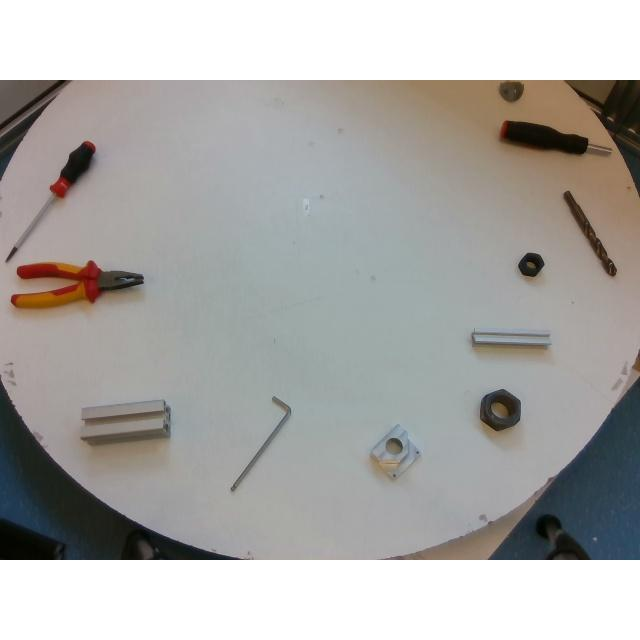Drill: (564, 190, 616, 276)
F20_20_G: (471, 328, 551, 348)
M20: (518, 252, 544, 276)
M30: (480, 390, 520, 430)
S40_40_G: (81, 399, 170, 443)
